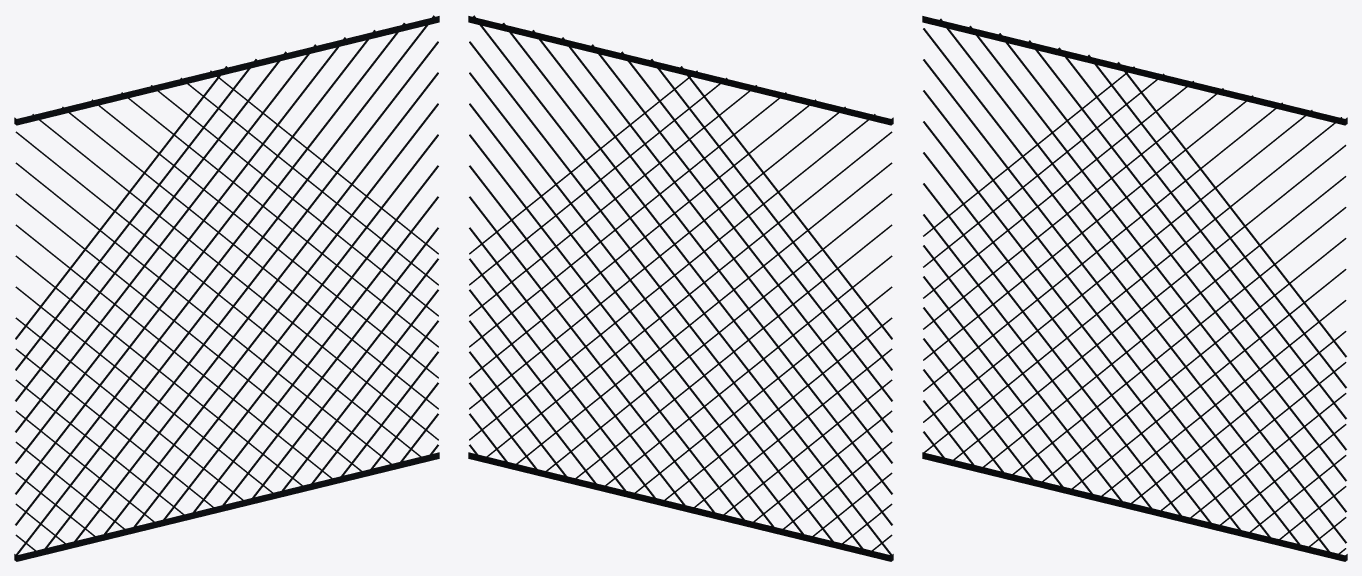
Rendered from v4_net.glb.
The picture shows the model from 3 angles, left to right: view 1: azimuth 30°, elevation 25°; view 2: azimuth 150°, elevation 25°; view 3: azimuth 330°, elevation 25°; orthographic projection.
Parts seen in each view (by area): view 1: Ball_Net_Cord; view 2: Ball_Net_Cord; view 3: Ball_Net_Cord.
Boxes of the visible parts, left/top/right/bottom form: Ball_Net_Cord: left=14, top=15, right=439, bottom=561; Ball_Net_Cord: left=468, top=15, right=893, bottom=561; Ball_Net_Cord: left=922, top=16, right=1347, bottom=561.
Size of the model in its own units: 2 by 2 by 0.02.
1 material, 1 textured.
